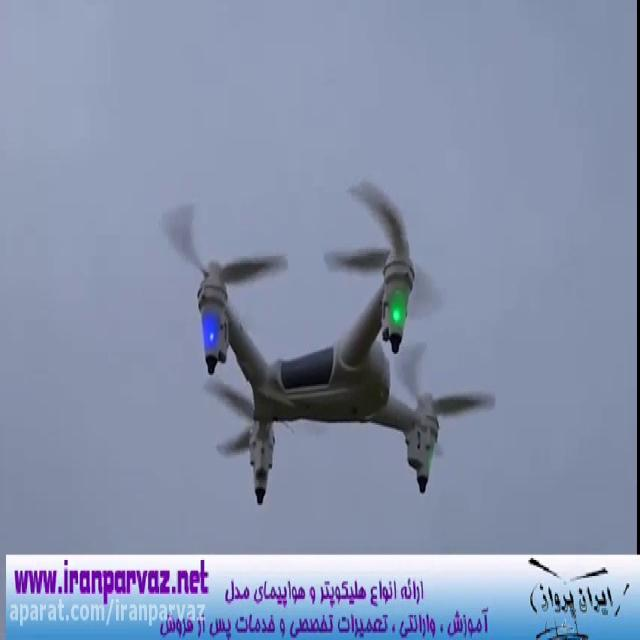drone: (154, 163, 501, 521)
